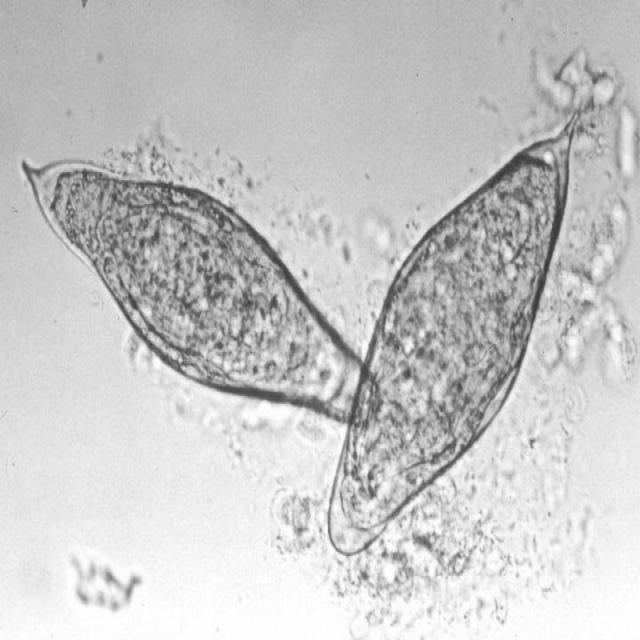Schistosoma: (324, 103, 578, 564), (15, 142, 382, 435)
